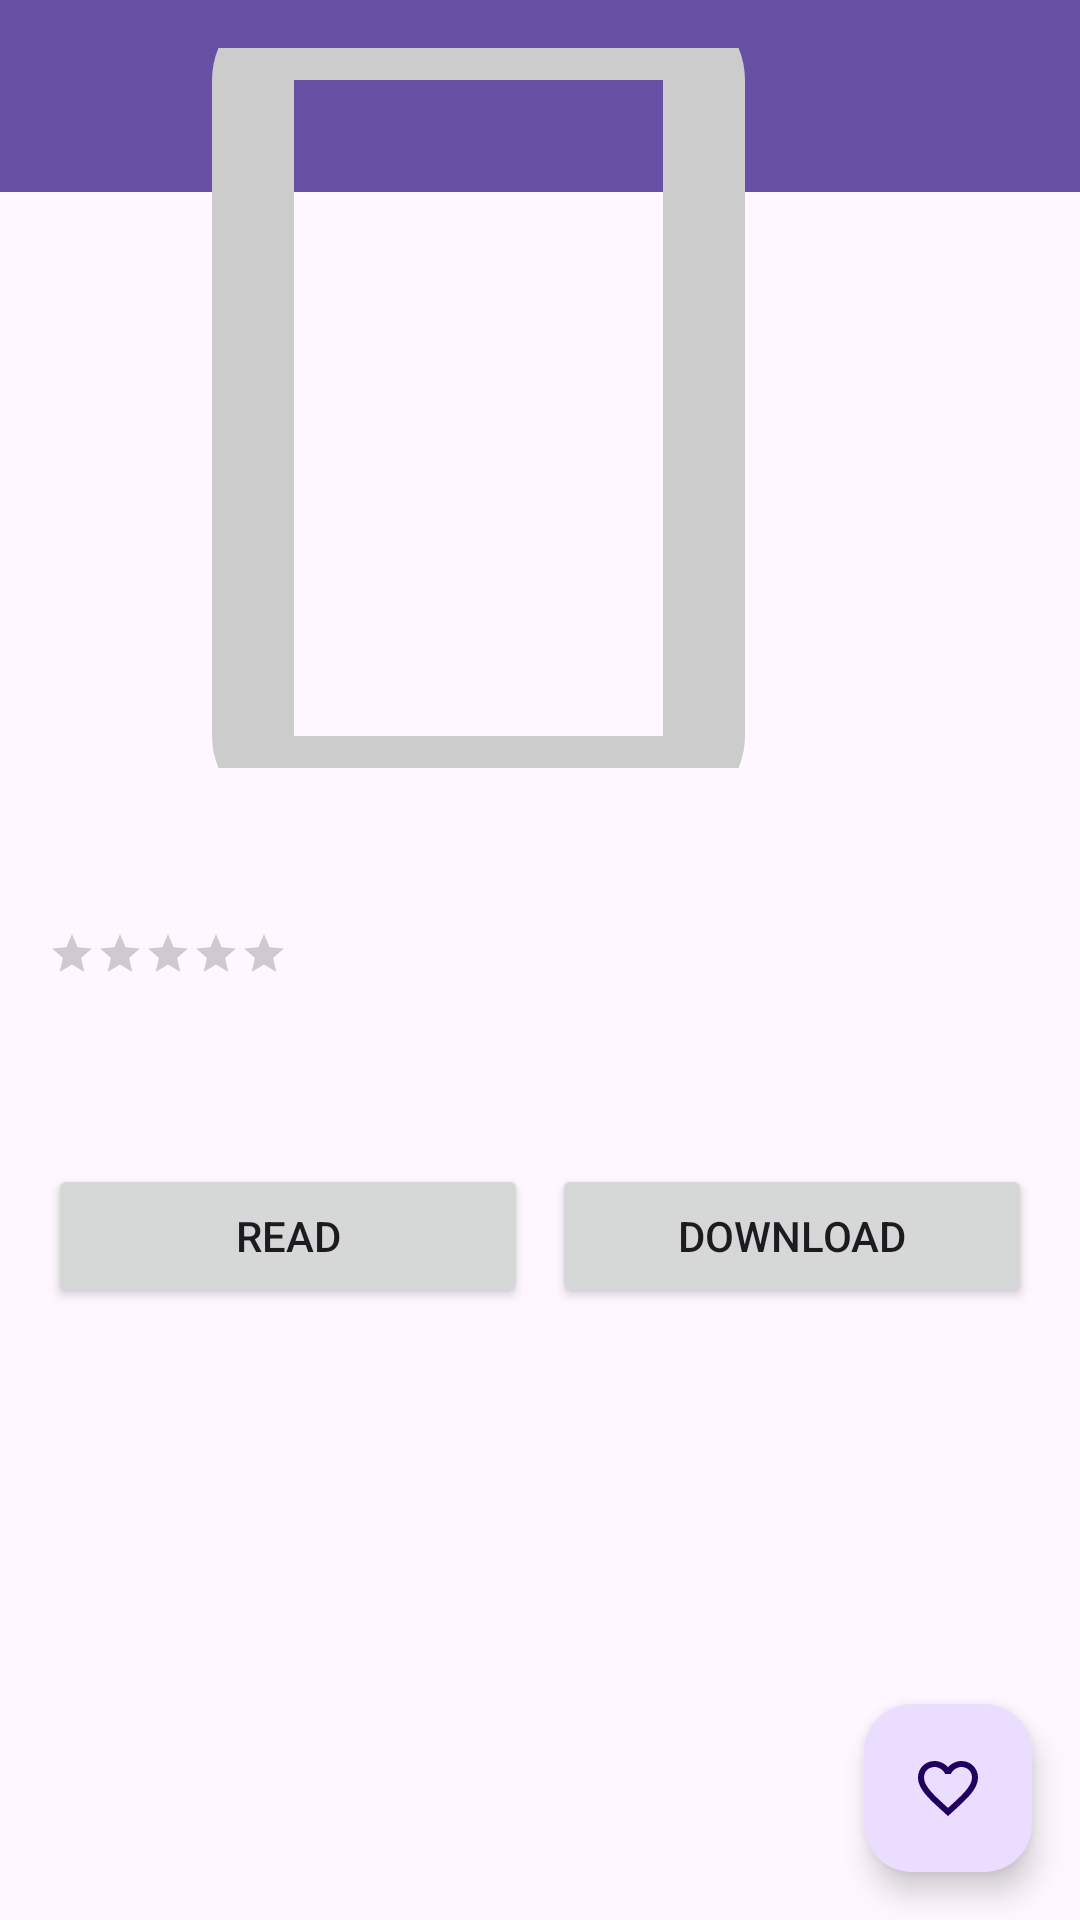

Icons on this 1080×1920 Android screen, each with the point to tap as [x,y]:
favorite border: [948,1788]
